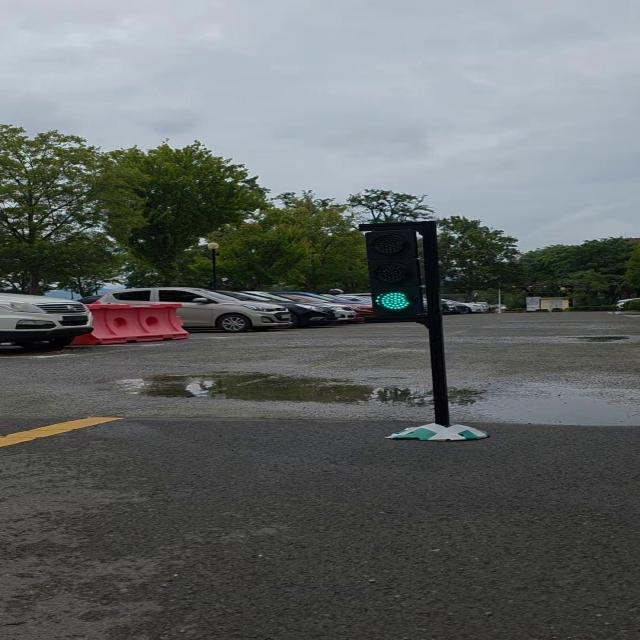green: (360, 222, 447, 326)
